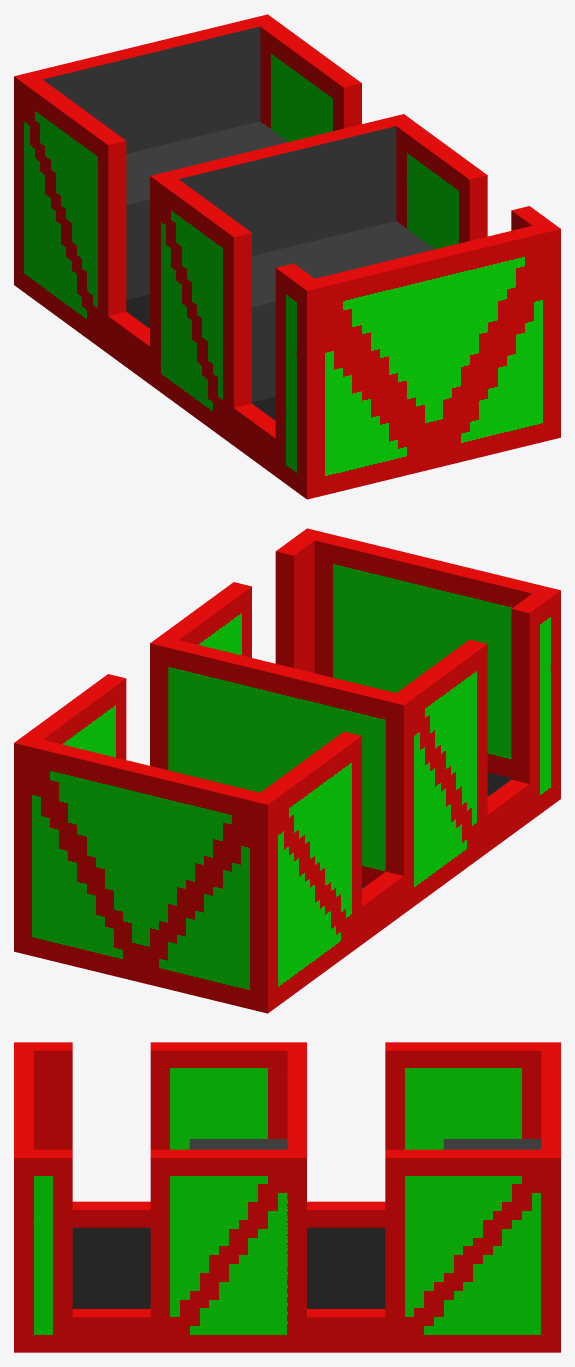
The model's file is car2.glb.
3 renders of one model, top to bottom at view 1: azimuth 30°, elevation 25°; view 2: azimuth 150°, elevation 25°; view 3: azimuth 270°, elevation 25°, orthographic. The views are drawn at different scales.
Visible parts, largest first — view 1: front (×3), back (×3), middle (×3), seat-front, seat-back, footer-front, footer-back, base; view 2: back (×3), middle (×3), front (×3), footer-front, footer-back; view 3: back (×3), middle (×3), front (×3), base, footer-front (×2), footer-back (×2), seat-back, seat-front.
Boxes of the visible parts, x1=… form: front (×3): x1=275, y1=206, x2=560, y2=499; back (×3): x1=14, y1=14, x2=361, y2=353; middle (×3): x1=150, y1=114, x2=487, y2=445; seat-front: x1=252, y1=221, x2=434, y2=401; seat-back: x1=126, y1=121, x2=288, y2=299; footer-front: x1=234, y1=403, x2=275, y2=476; footer-back: x1=108, y1=311, x2=149, y2=384; base: x1=126, y1=294, x2=275, y2=420; back (×3): x1=14, y1=674, x2=361, y2=1013; middle (×3): x1=150, y1=582, x2=487, y2=913; front (×3): x1=275, y1=528, x2=560, y2=821; footer-front: x1=487, y1=779, x2=529, y2=852; footer-back: x1=362, y1=871, x2=403, y2=944; back (×3): x1=385, y1=1042, x2=560, y2=1352; middle (×3): x1=150, y1=1042, x2=306, y2=1352; front (×3): x1=14, y1=1042, x2=72, y2=1352; base: x1=72, y1=1227, x2=385, y2=1308; footer-front (×2): x1=72, y1=1201, x2=150, y2=1352; footer-back (×2): x1=307, y1=1201, x2=385, y2=1352; seat-back: x1=443, y1=1139, x2=541, y2=1149; seat-front: x1=189, y1=1139, x2=287, y2=1149.
Size of the model in its own units: 0.875 by 0.6875 by 1.75.
Materials: 1 (1 with a texture image).
